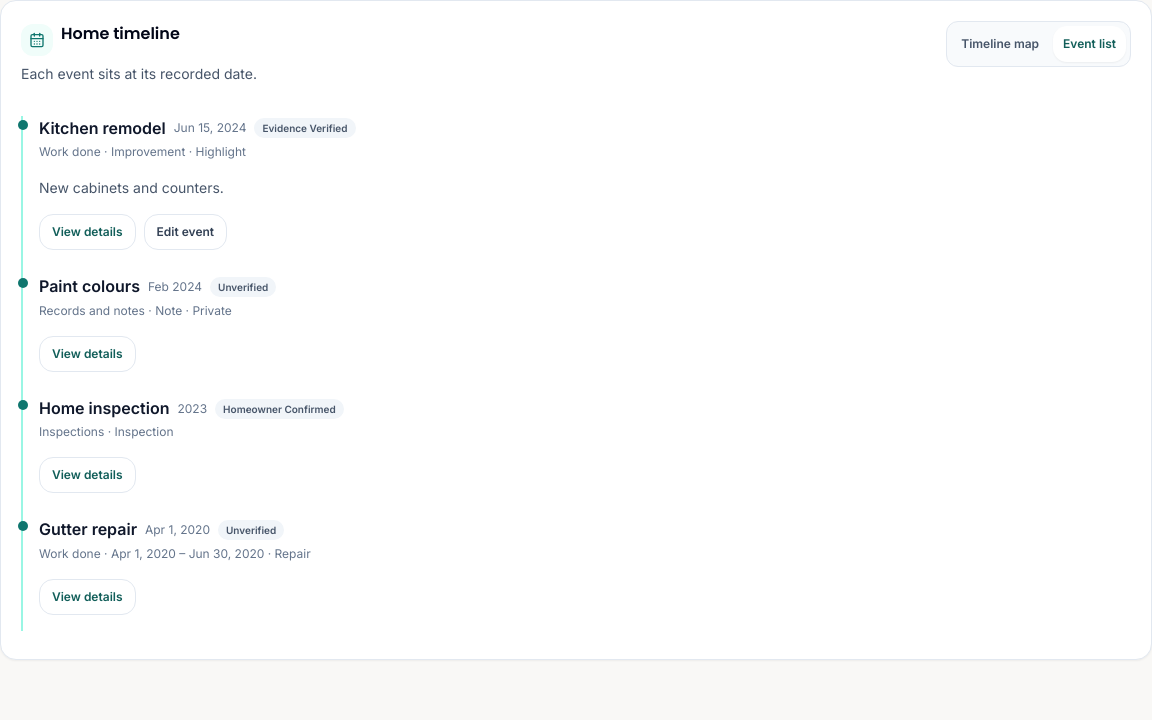
Test case: the track opens on the latest event and shows its record facts; stepping back reaches a range placed at its start
Click the button "Timeline map": (1000, 44) [951,26,1049,62]
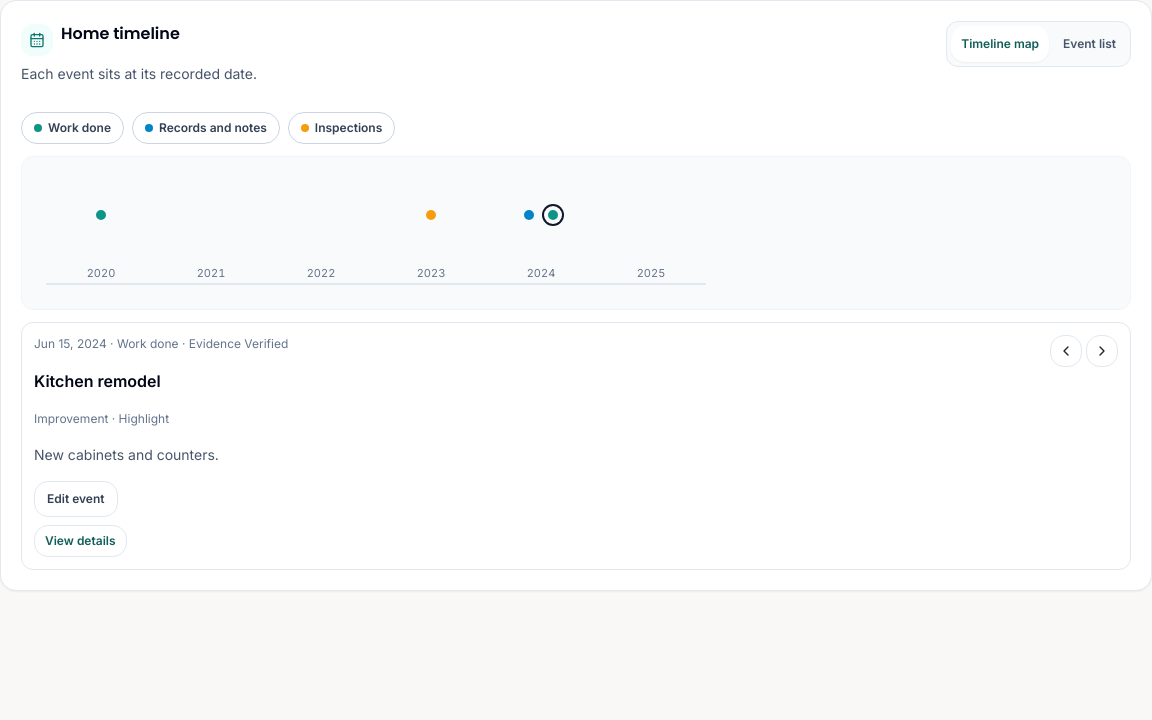
Now the element that starts with "Jun 15, 2024" is shown, box [21,322,1131,570]
Now the text "Jun 15, 2024 · Work done · Evidence Verified" is shown, box [34,336,288,351]
Now the button named "Feb 2024: Paint colours (Records and notes)" is shown, box [521,207,537,223]
Click the button named "Previous event": (1066, 351) [1050,335,1082,367]
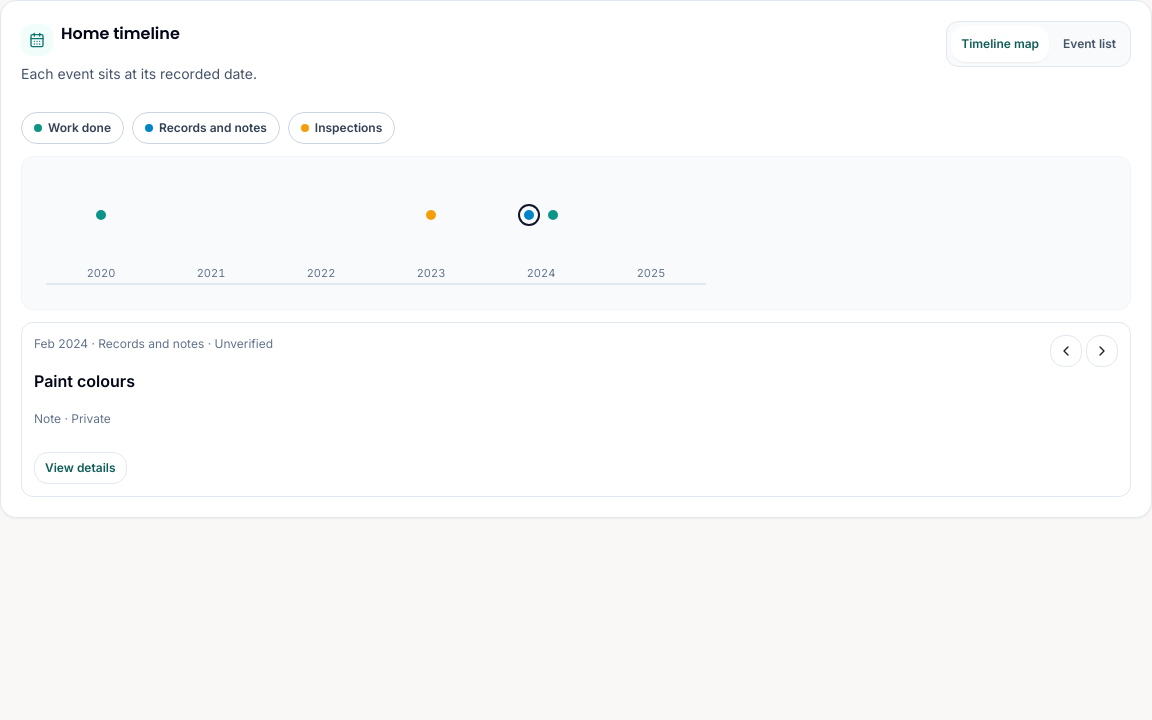
Click the button named "Previous event": (1066, 351) [1050,335,1082,367]
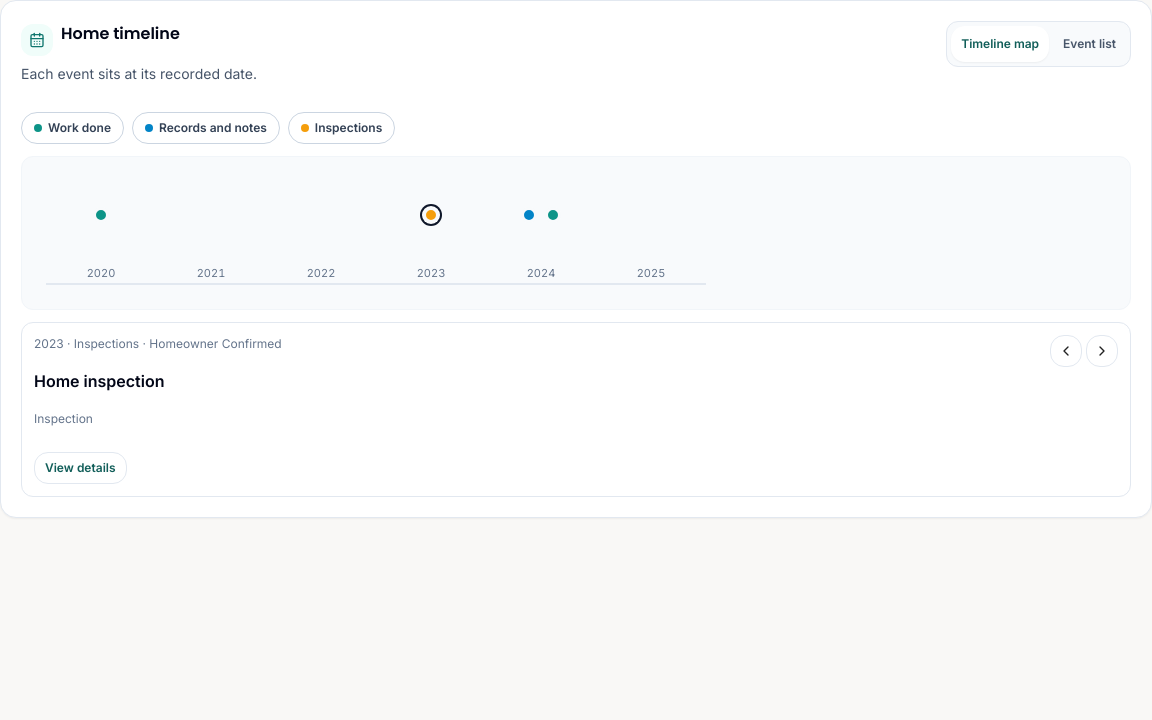
Click the button named "Previous event": (1066, 351) [1050,335,1082,367]
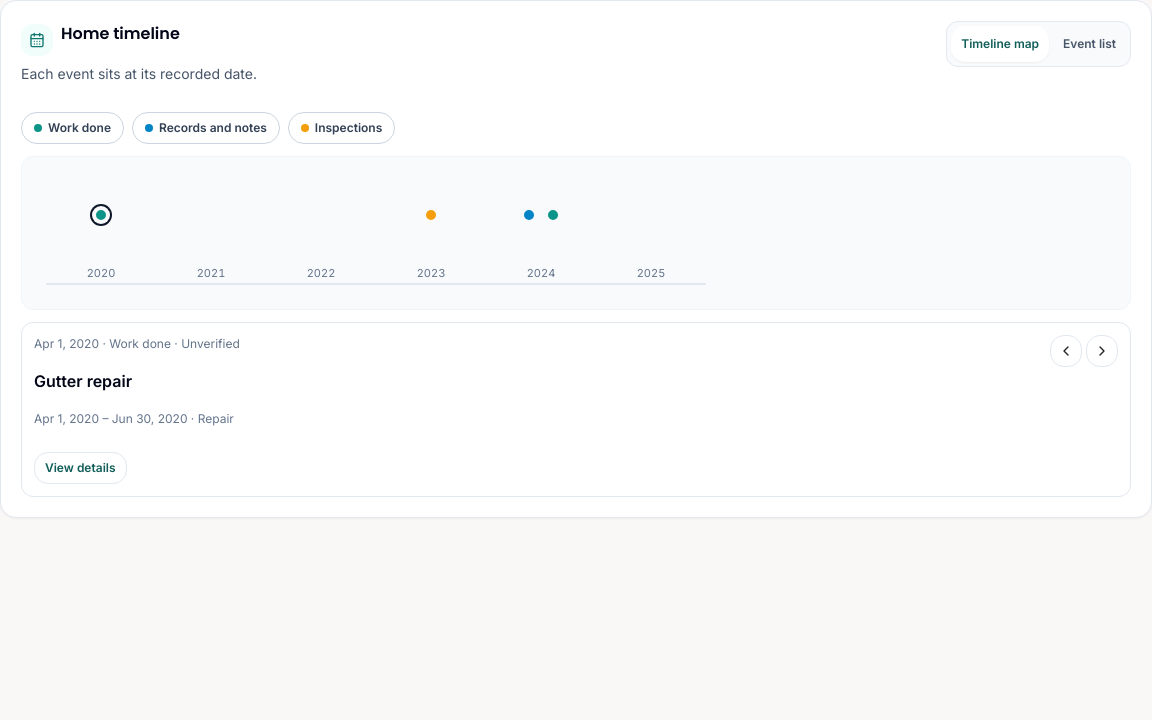
Now the text "Apr 1, 2020 – Jun 30, 2020 · Repair" is shown, box [34,411,234,426]
